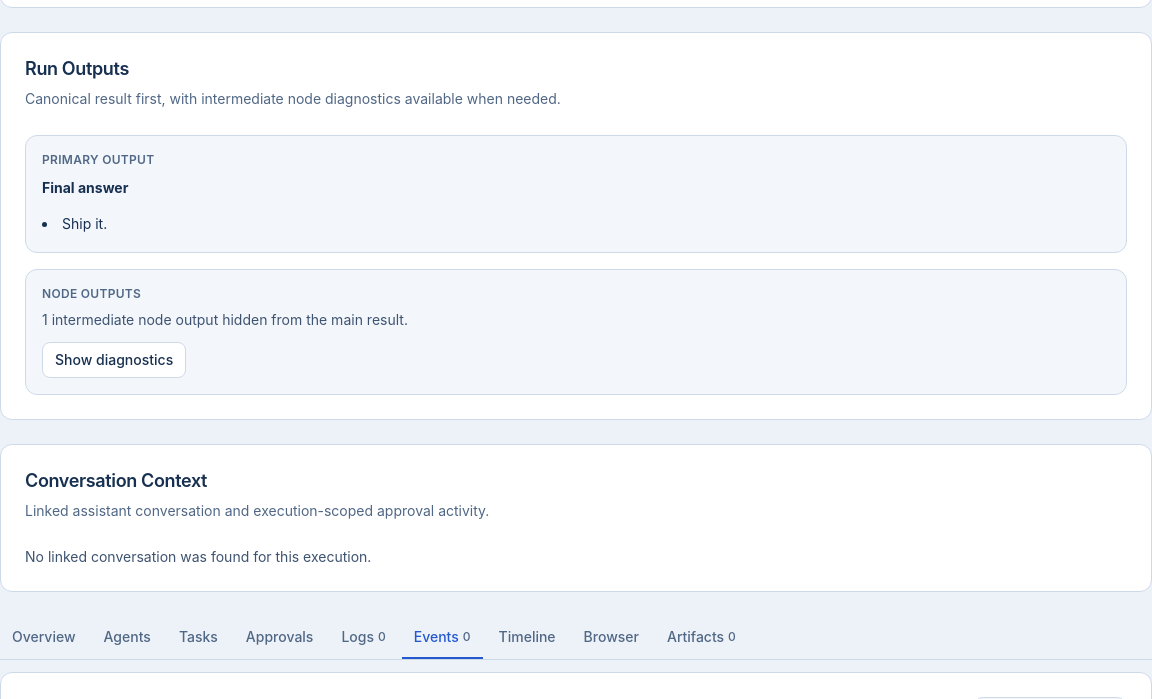
Test case: RunDetailWorkspace › renders native runtime output payloads as canonical run outputs
(page scrolled)
Check: the heading "Run Outputs" is shown, box [25,58,129,79]
Check: the text "Primary output" is shown, box [42,152,154,167]
Click the button "Show diagnostics" at (114, 360), box [42,342,186,378]
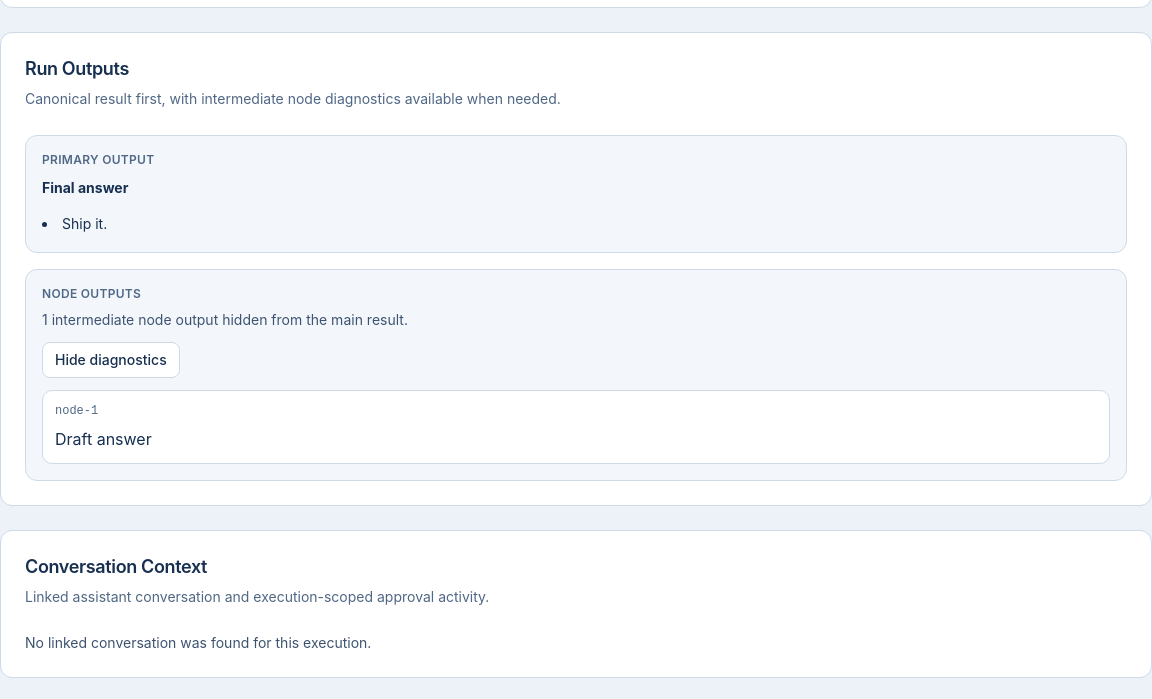
Check: the text "node-1" is shown, box [55,404,98,418]
